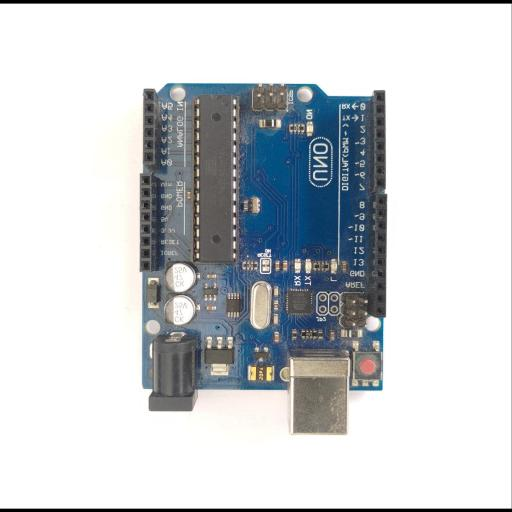Arduino Uno R3: (138, 81, 388, 433)
